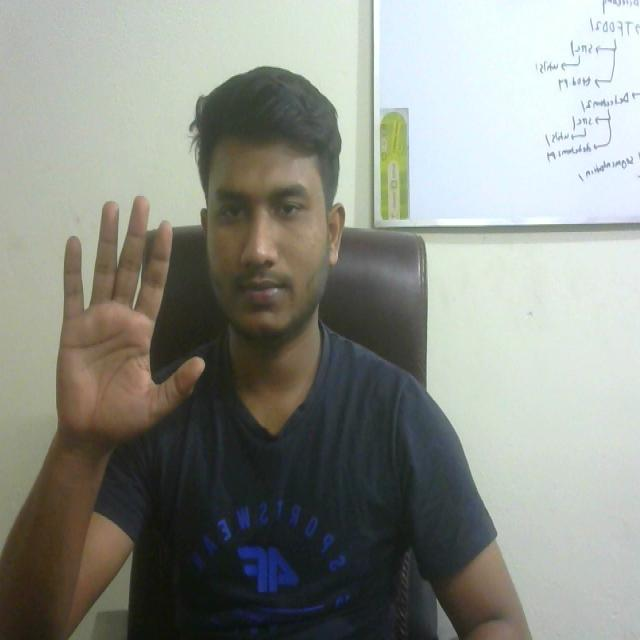A: (28, 199, 215, 460)
